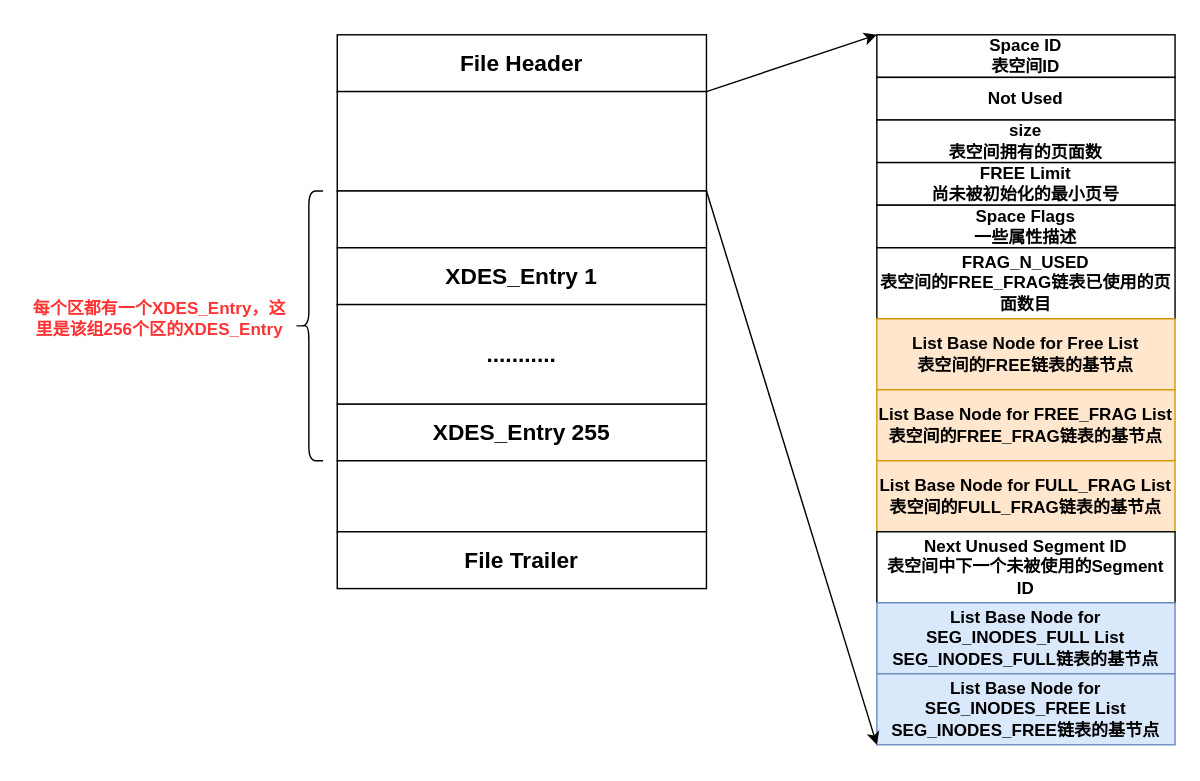
This 1200x781 diagram has some shape labels left out. Each missing label, with the centre of its shape:
Empty Space: [521,495]
File Space Header 记录表空间的整体属性: [521,140]
XDES_Entry 0: [521,219]
